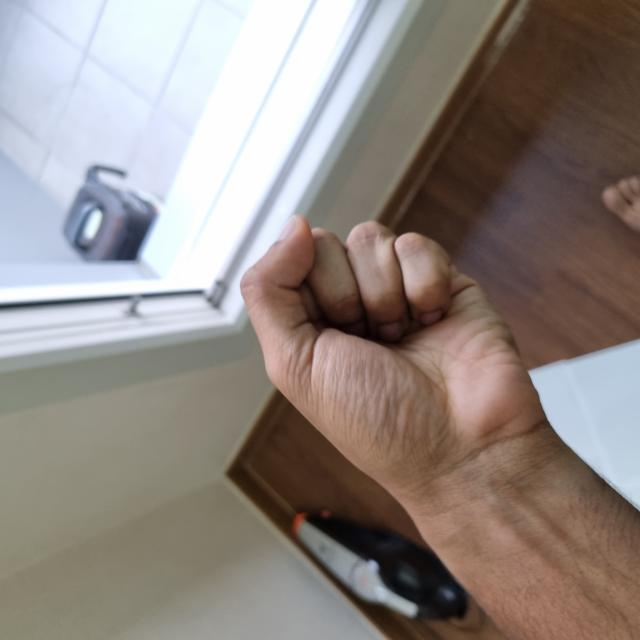Rock: (133, 245, 421, 543)
